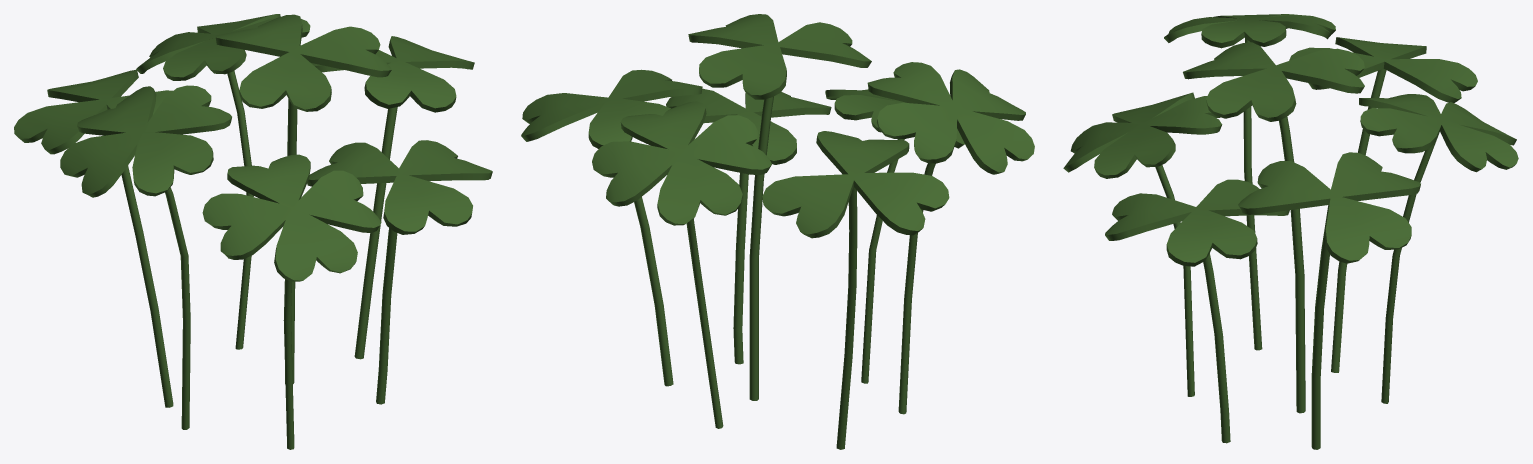
File: LeprechaunHat_02_Shamrocks.fbx
3 views of the same model, side by side, from view 1: azimuth 30°, elevation 25°; view 2: azimuth 150°, elevation 25°; view 3: azimuth 270°, elevation 25° (orthographic).
Parts seen in each view (by area): view 1: LeprechaunHat_02_Shamrocks; view 2: LeprechaunHat_02_Shamrocks; view 3: LeprechaunHat_02_Shamrocks.
Boxes of the visible parts, left/top/right/bottom form: LeprechaunHat_02_Shamrocks: left=14, top=14, right=492, bottom=449; LeprechaunHat_02_Shamrocks: left=521, top=14, right=1034, bottom=449; LeprechaunHat_02_Shamrocks: left=1063, top=14, right=1518, bottom=449.
Size of the model in its own units: 0.2931 by 0.2255 by 0.2625.
